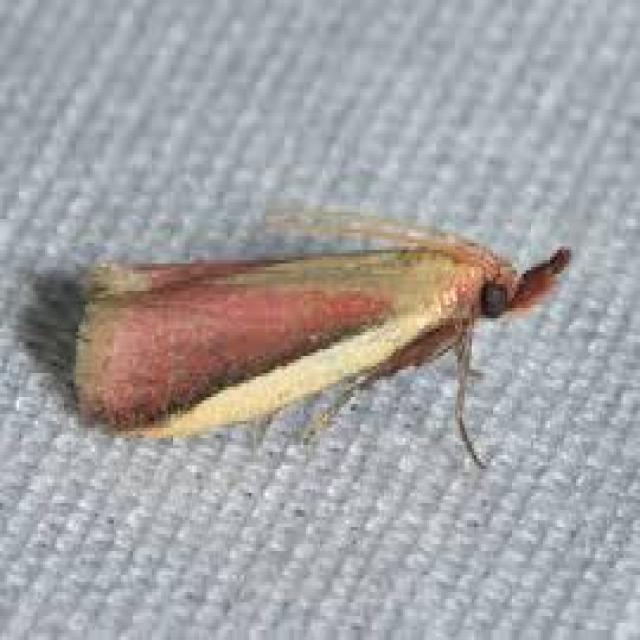yellow-stem-borer: (46, 141, 578, 518)
